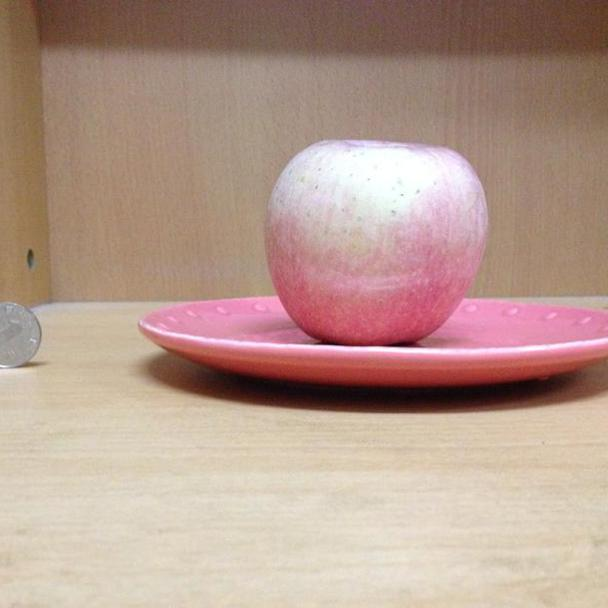apple: (263, 138, 489, 348)
